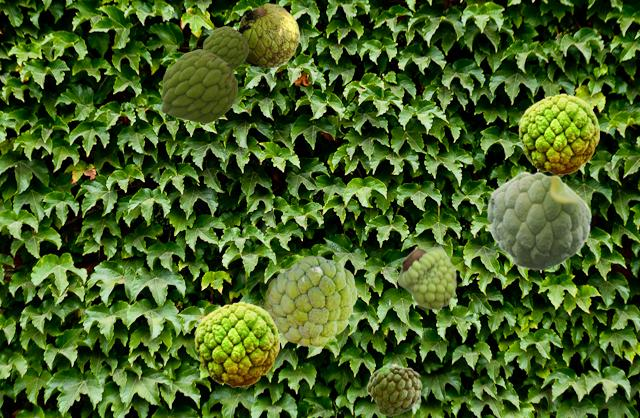atis: (486, 171, 591, 269), (264, 256, 356, 345), (194, 301, 278, 386), (518, 93, 598, 174), (161, 49, 236, 122), (238, 3, 298, 67), (397, 246, 456, 310), (366, 363, 421, 415), (202, 26, 247, 69)
